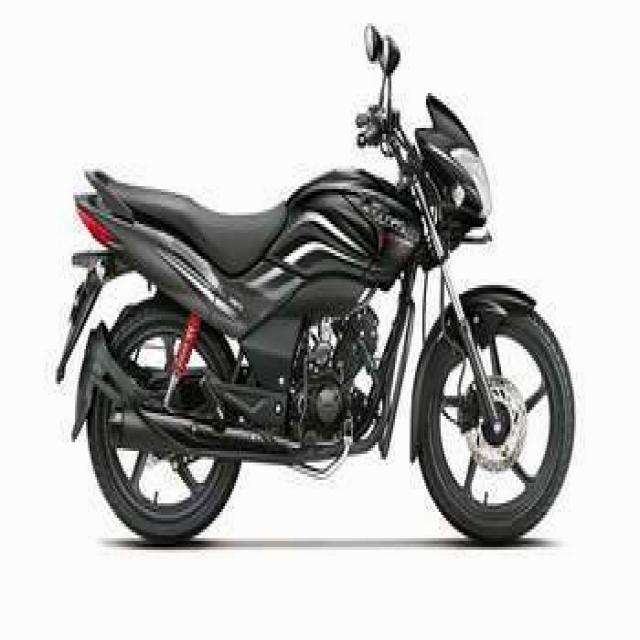MOTORCYCLE: (61, 28, 572, 548)
